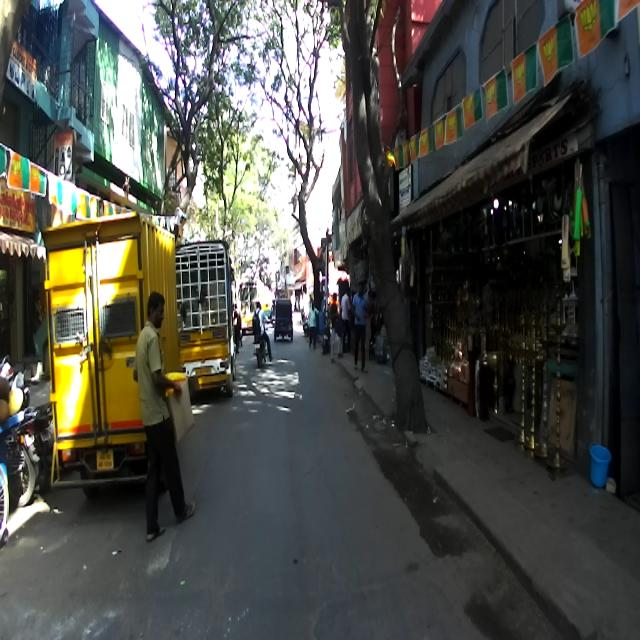car ahead at: (33, 208, 197, 491)
person ahead at: (134, 290, 197, 560)
